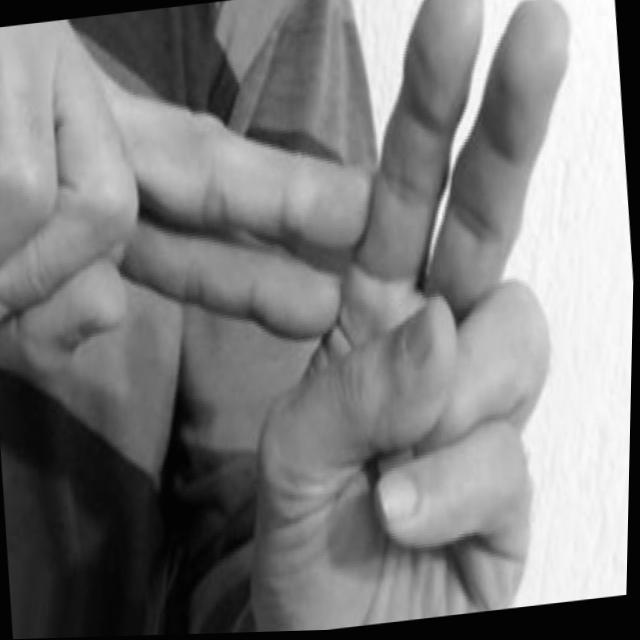K: (0, 0, 625, 640)
